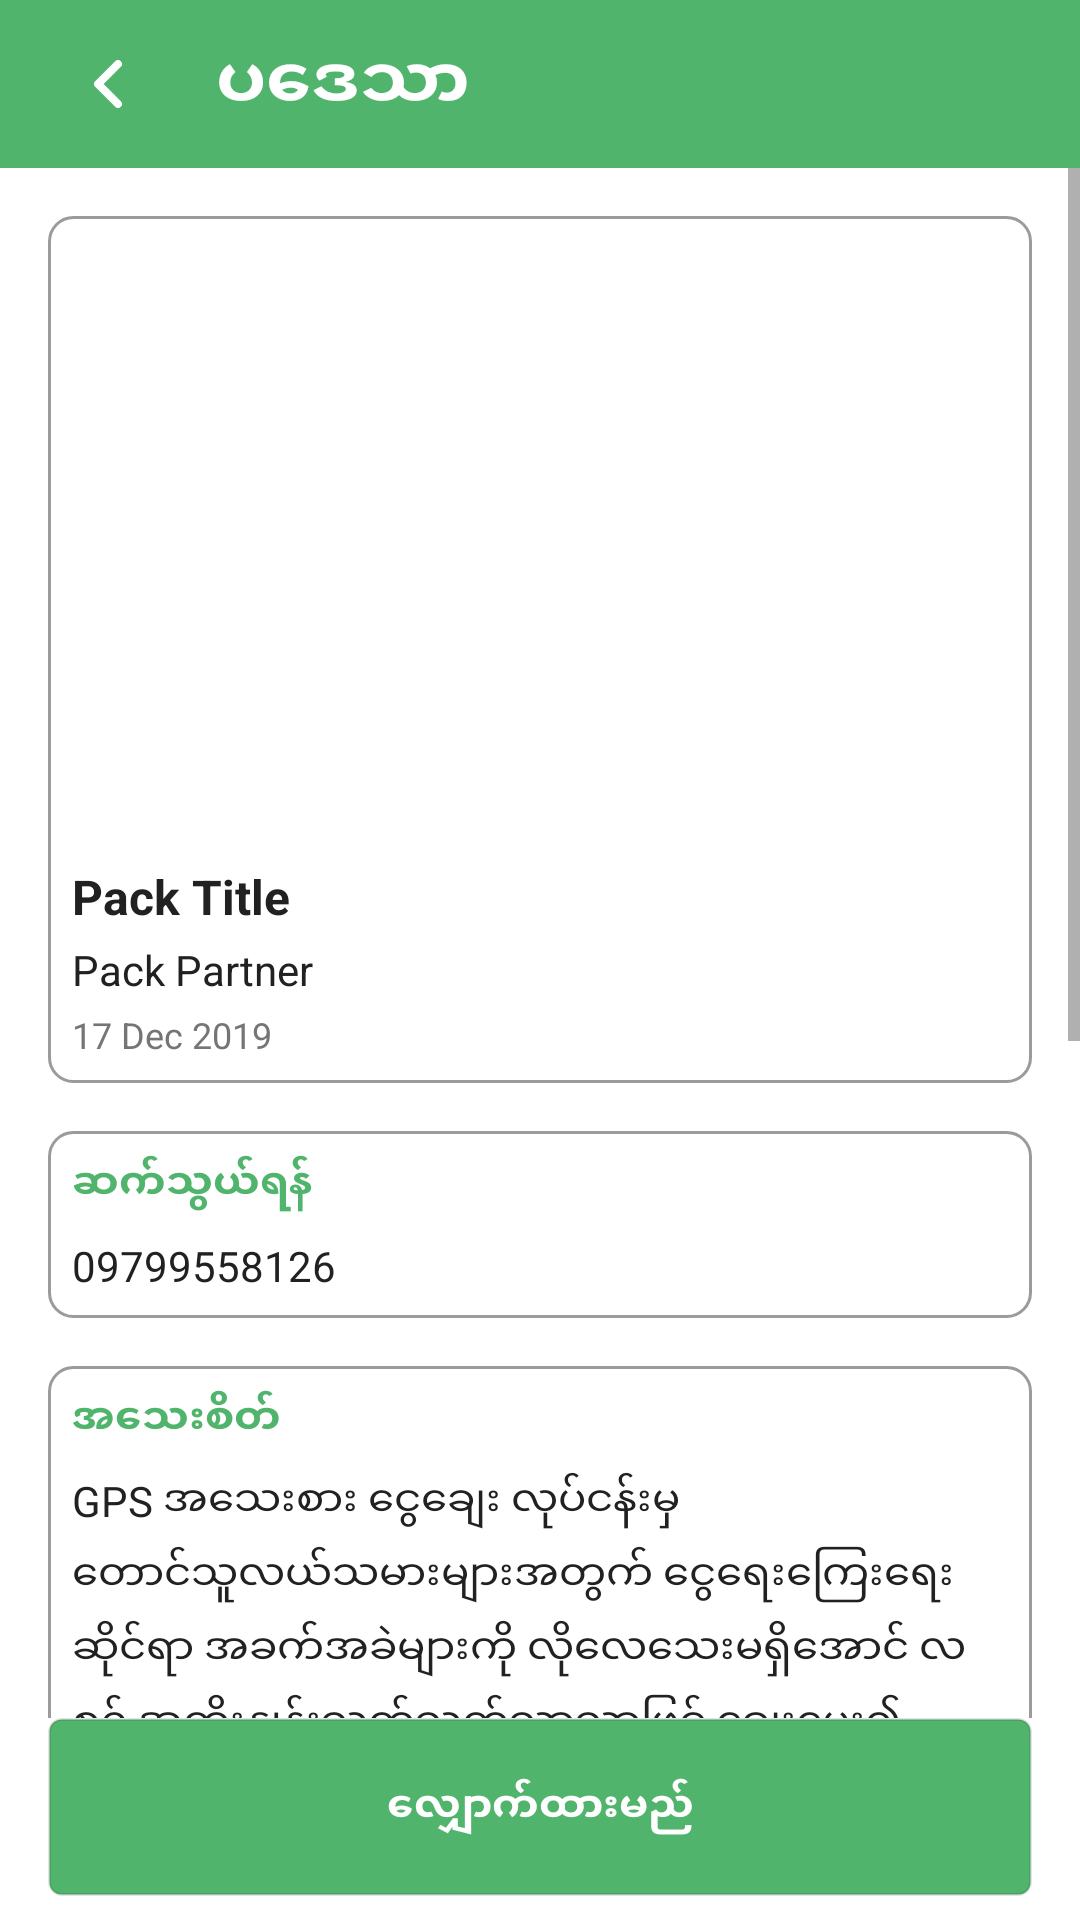

Point at icon controls on the screen. Image size 1080px x 1920px, points as (x,y).
back: (108,84)
